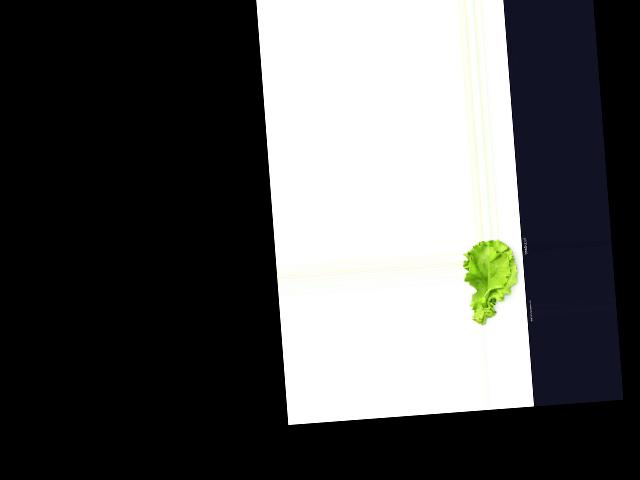lettuce: (460, 238, 525, 324)
